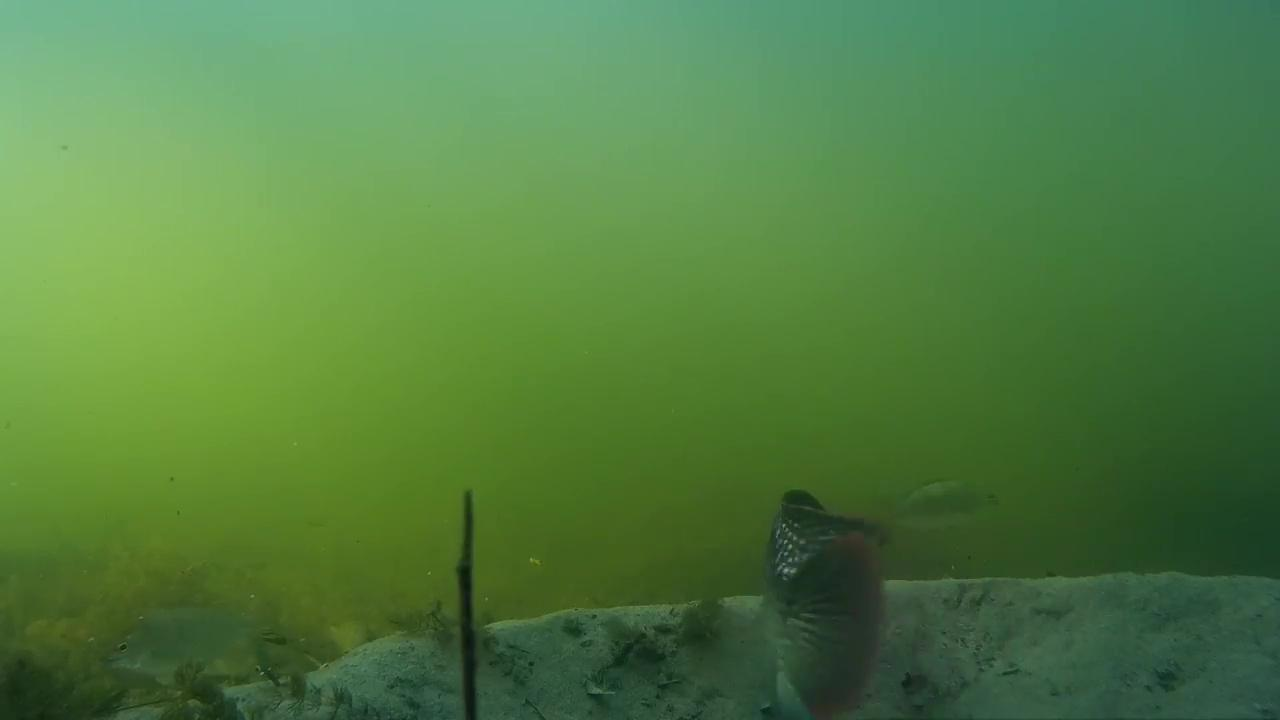Tilapia: (748, 488, 893, 716), (903, 478, 1016, 532)
